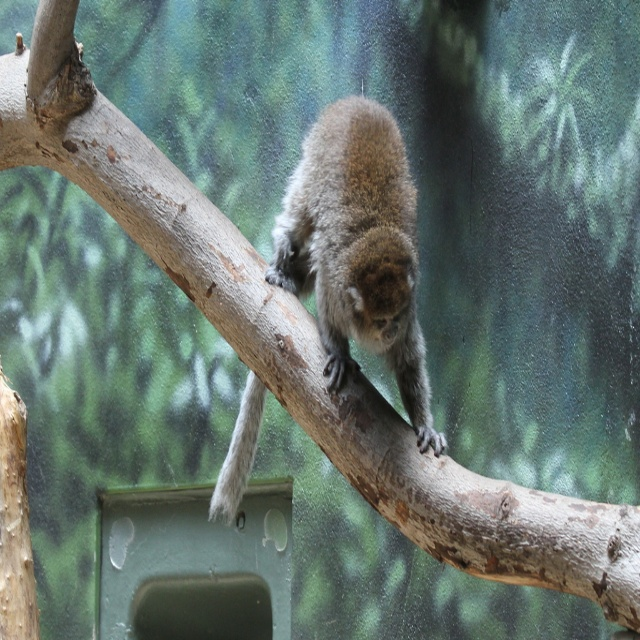Monkey: (221, 136, 473, 533)
